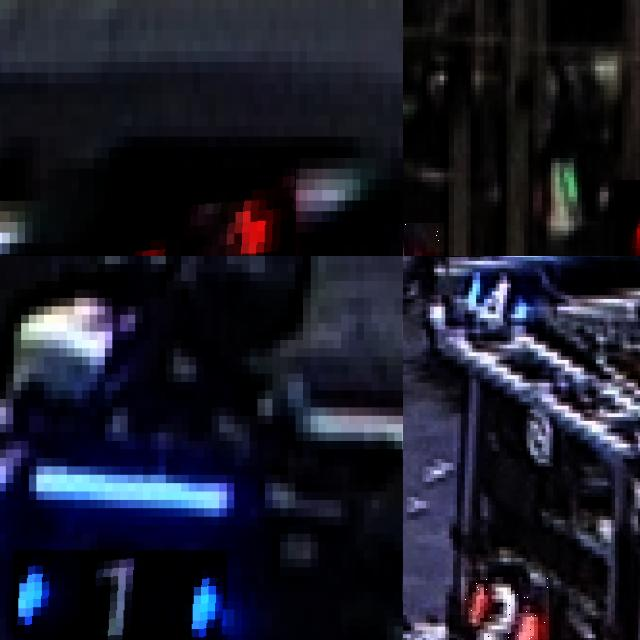B1: (13, 550, 226, 640)
R2: (460, 577, 549, 640)
R3: (105, 168, 295, 256)
